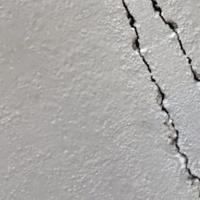crack: (117, 0, 199, 198)
